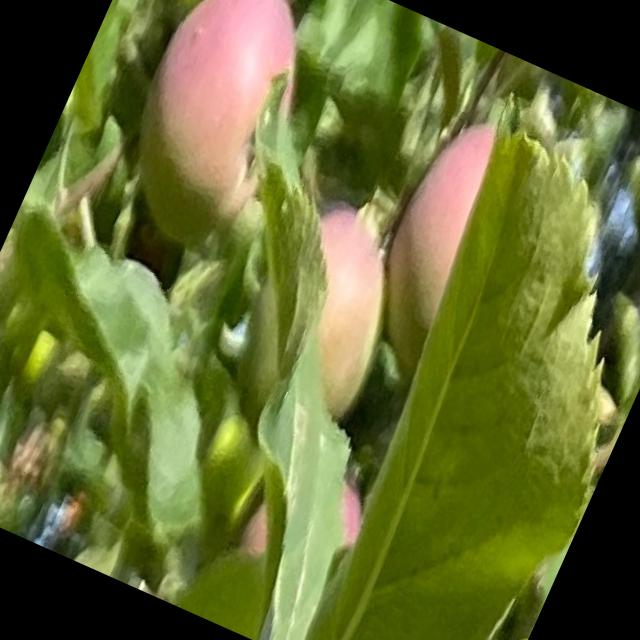Apples: (101, 0, 338, 257), (342, 111, 518, 387), (241, 194, 426, 428), (235, 448, 377, 596)
